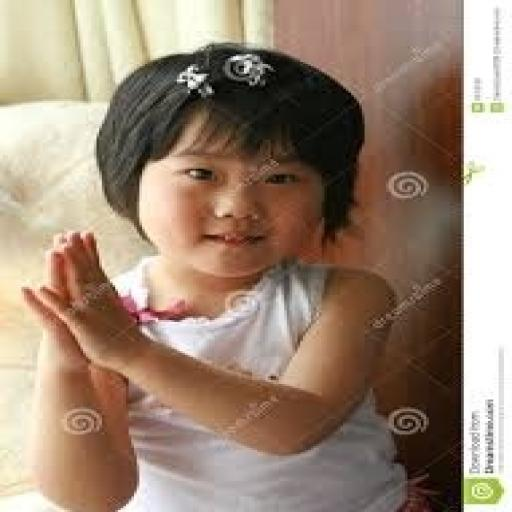clapping: (19, 41, 418, 510)
